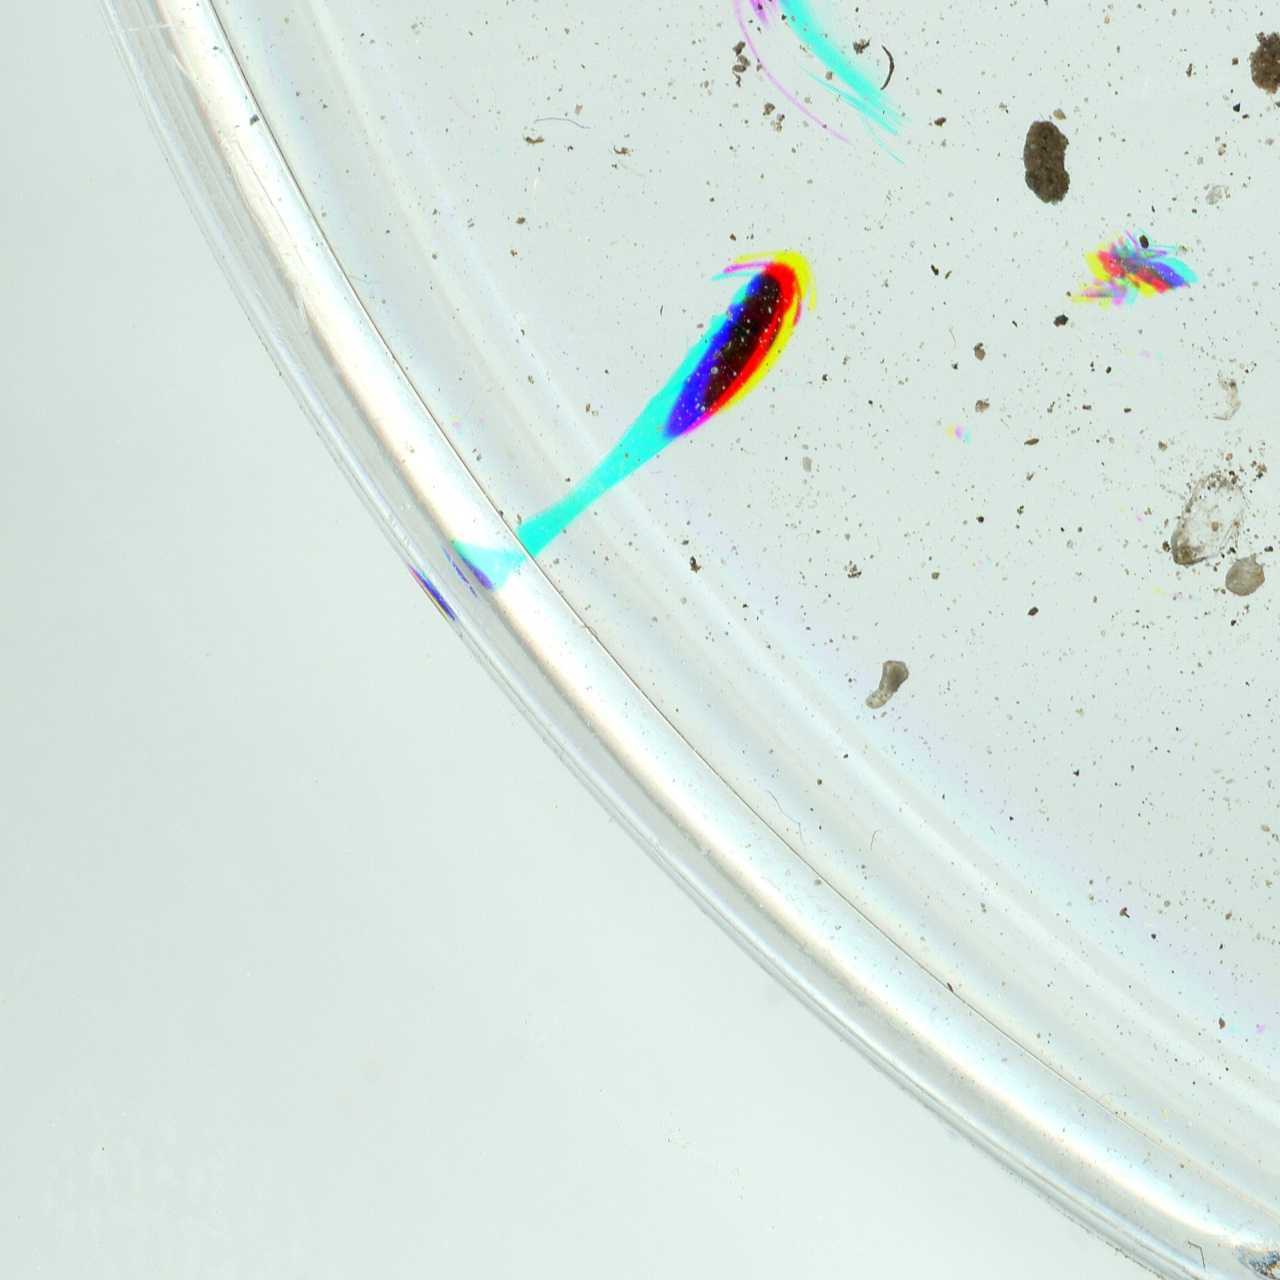arthropod: (620, 212, 850, 479), (663, 252, 808, 445), (1089, 227, 1199, 292), (720, 0, 792, 20)
